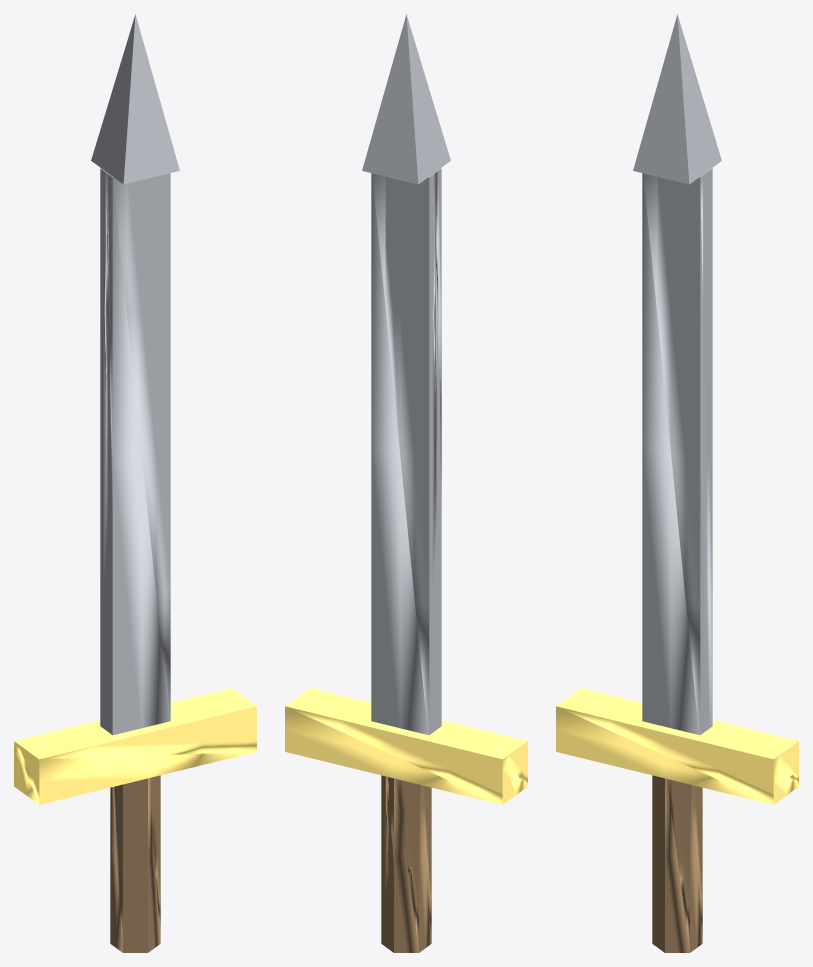
File: greatsword.glb
3 views of the same model, side by side, from view 1: azimuth 30°, elevation 25°; view 2: azimuth 150°, elevation 25°; view 3: azimuth 330°, elevation 25° (orthographic).
Visible parts, largest first — view 1: GreatswordGrip; view 2: GreatswordGrip; view 3: GreatswordGrip.
Boxes of the visible parts, box(x1,y1,x2,y2) form: GreatswordGrip: box(14, 14, 256, 952); GreatswordGrip: box(285, 14, 527, 952); GreatswordGrip: box(556, 14, 798, 952).
Size of the model in its own units: 0.6 by 2.45 by 0.1556.
